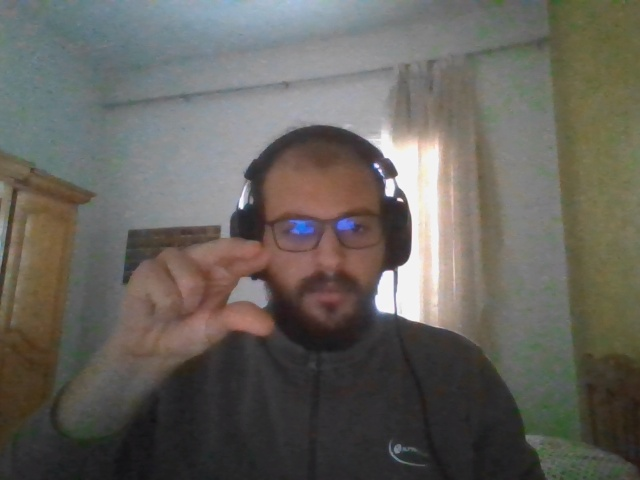No: (132, 241, 271, 361)
